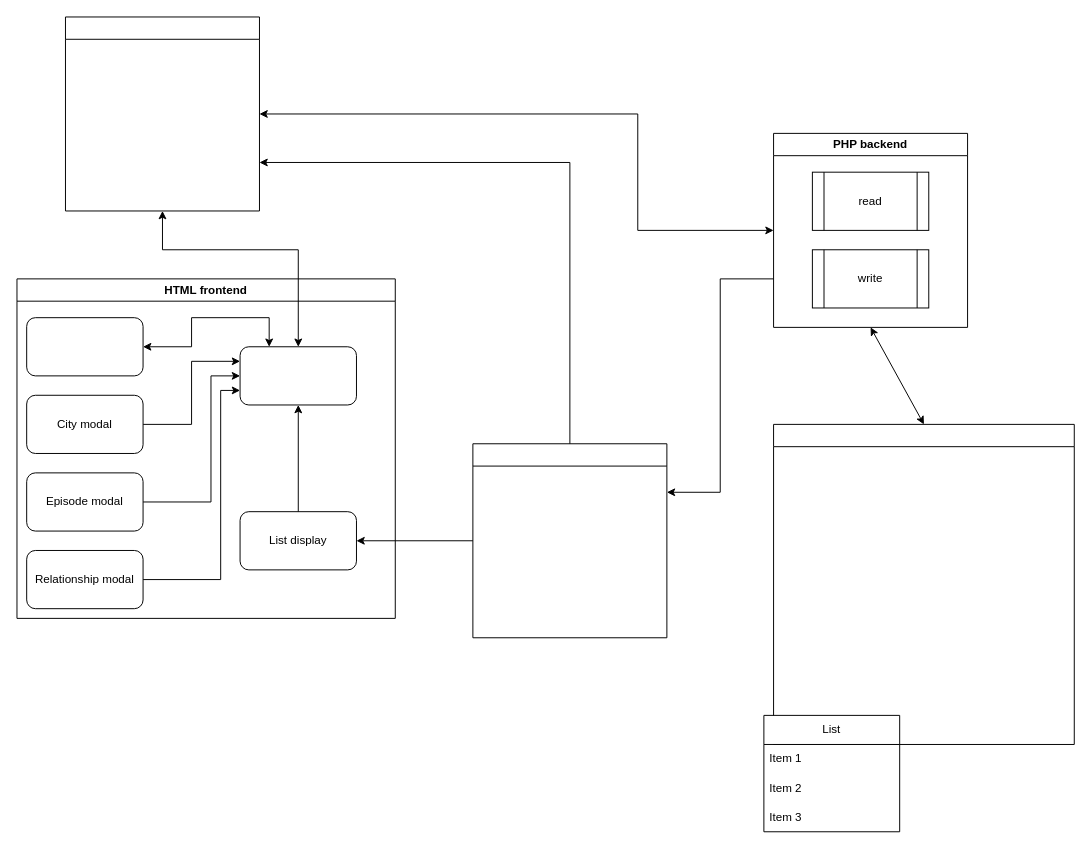
The diagram is 1091 pixels wide and 849 high, and some of its shapes have lost their labels. Each missing label, with the centre of its shape:
Character JS class: point 162,113
Image modal: point 84,346
individual character display / edit: point 297,375
List JS class: point 569,540
MySQL database: point 923,583
